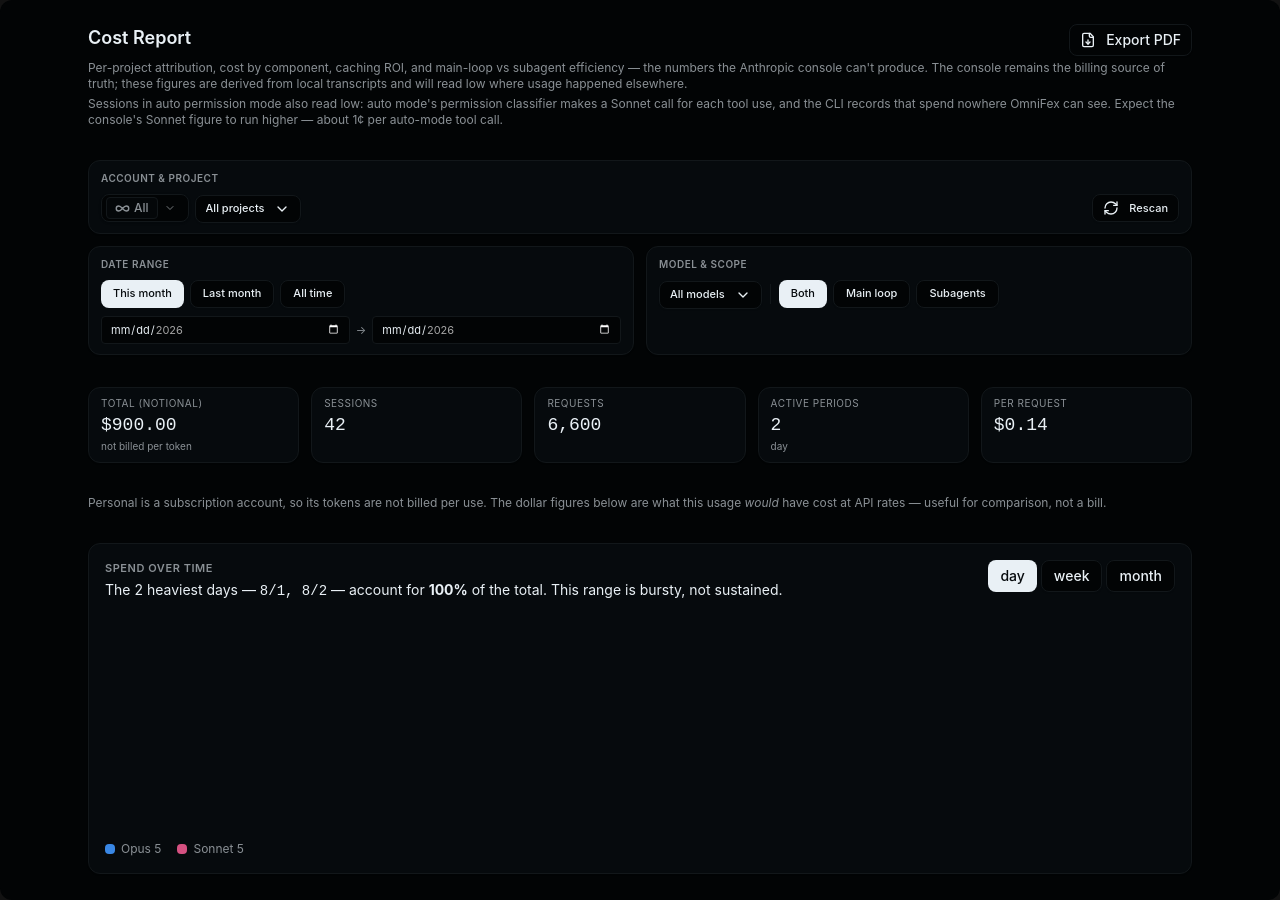
Test: CostReportView › drops the notional caveat once only billed accounts are selected
Expected: the text "Total (notional)" is shown, x1=101 y1=397 x2=202 y2=409
What coordinates should you click on to do the following:
click the button with test id "account-picker-trigger"
I would click on:
 (145, 208)
Its box is x1=101 y1=194 x2=189 y2=222.
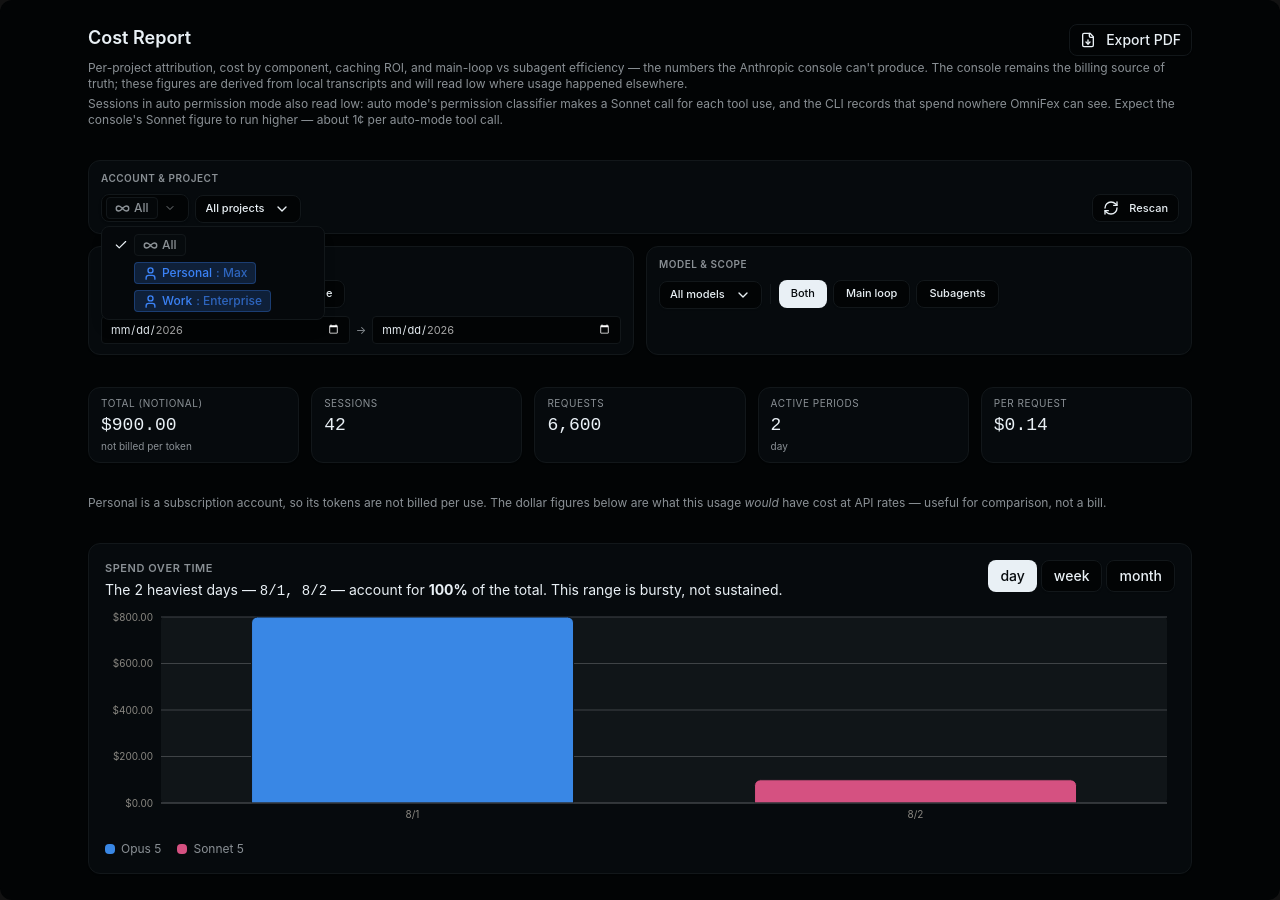
What coordinates should you click on to do the following:
click the button with test id "account-option-Work"
I would click on:
 (213, 301)
Its box is x1=106 y1=287 x2=320 y2=315.
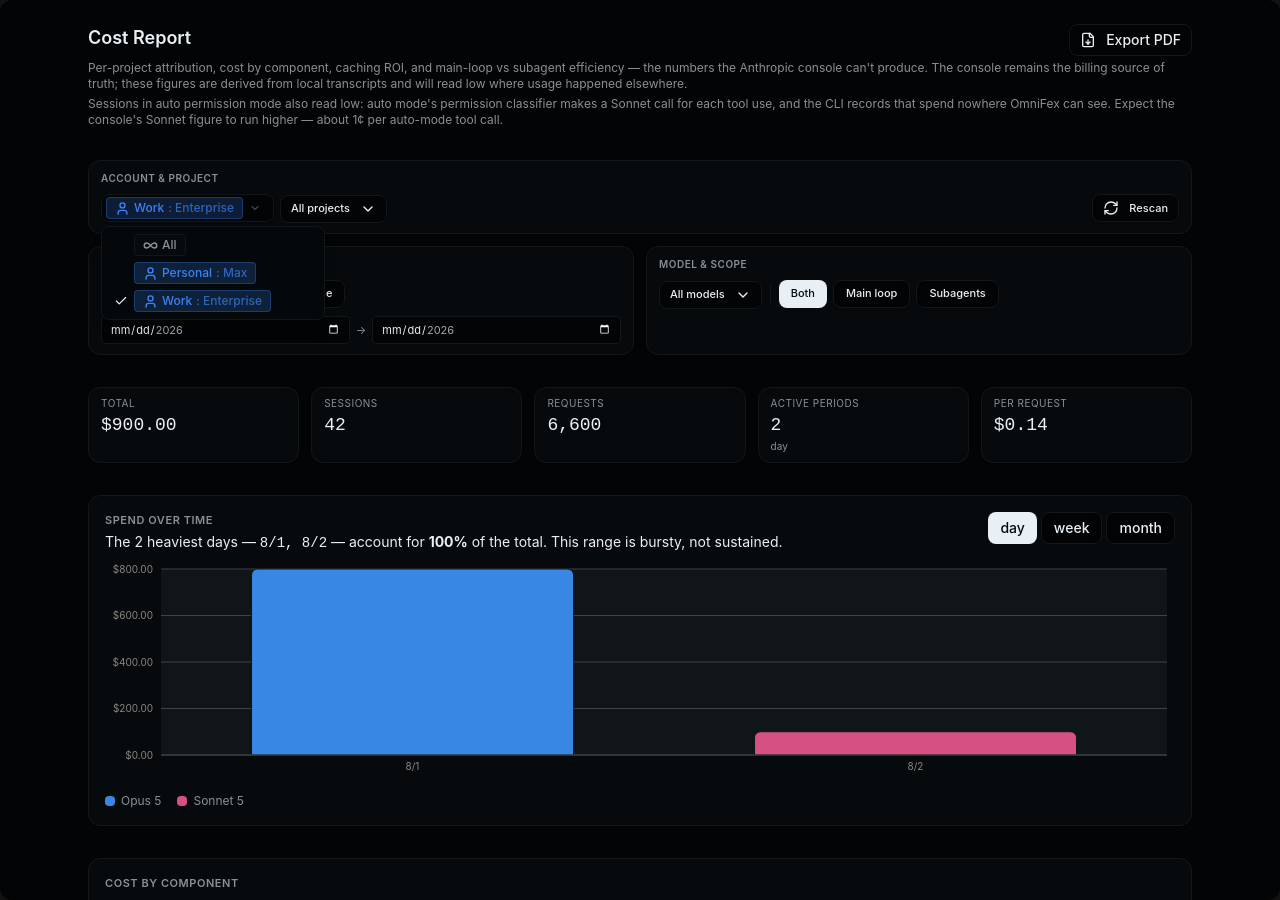
Expected: the text "Total" is shown, x1=101 y1=397 x2=135 y2=409
Expected: the text "Total (notional)" is gone
